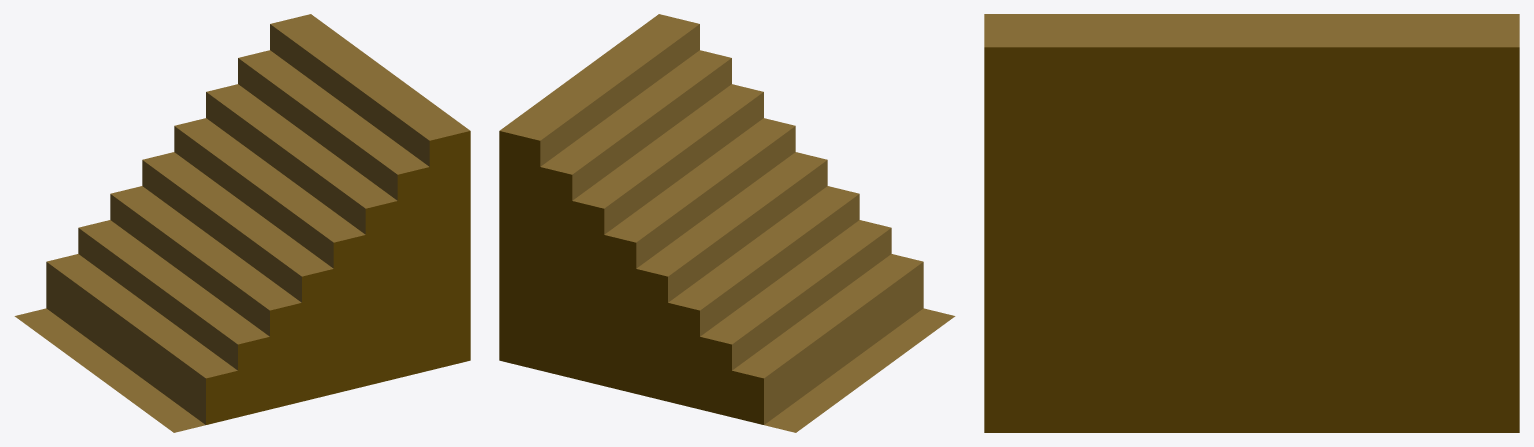
Rendered from basement stairs.fbx.
3 views of the same model, side by side, from view 1: azimuth 30°, elevation 25°; view 2: azimuth 150°, elevation 25°; view 3: azimuth 270°, elevation 25° (orthographic). The views are drawn at different scales.
Parts seen in each view (by area): view 1: basement stairs; view 2: basement stairs; view 3: basement stairs.
Boxes of the visible parts, x1,y1,x2,y2 form: basement stairs: (14, 14, 470, 432); basement stairs: (499, 14, 955, 432); basement stairs: (984, 14, 1519, 432).
Bounding box in the file's own units: 177 × 131 × 165.
